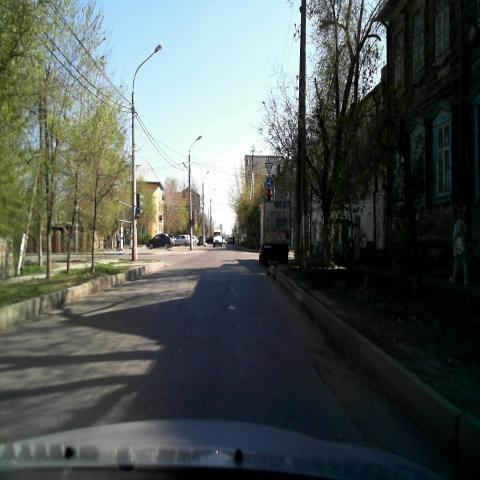4_1_5: (266, 176, 274, 189)
